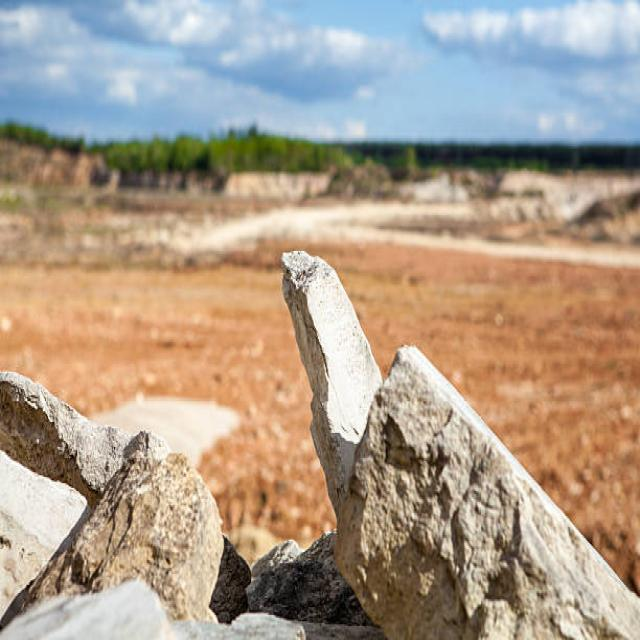Sedimentary: (326, 353, 640, 640), (1, 368, 262, 640), (258, 245, 394, 477)
